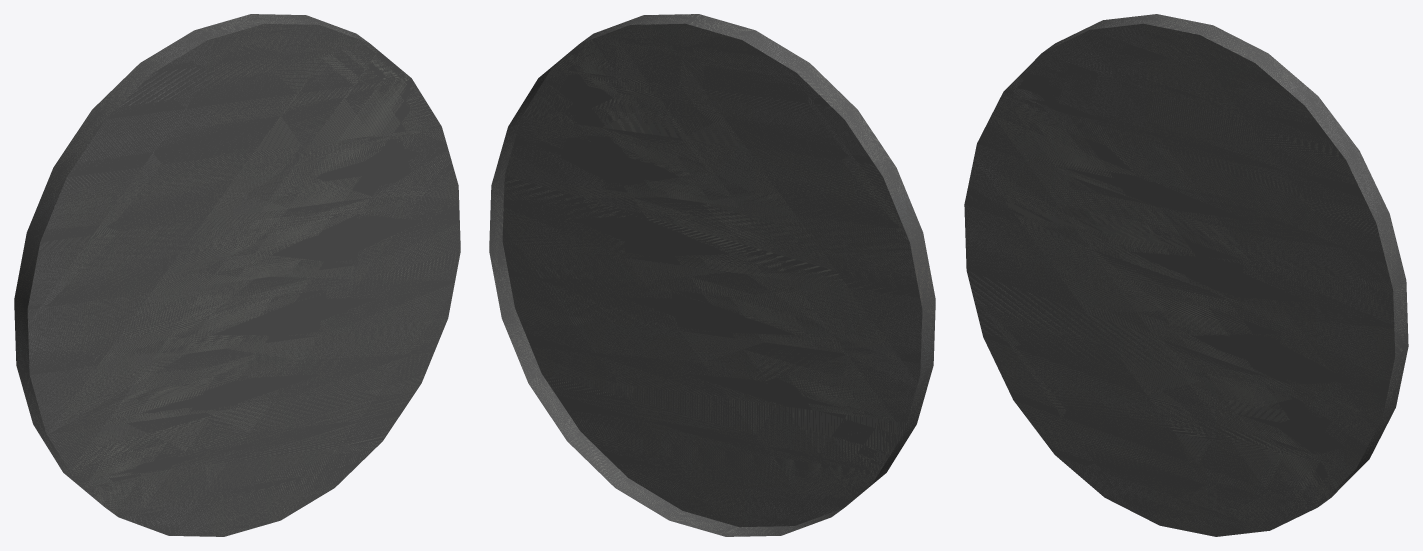
The model's file is original-96.obj.
The picture shows the model from 3 angles, left to right: view 1: azimuth 30°, elevation 25°; view 2: azimuth 150°, elevation 25°; view 3: azimuth 330°, elevation 25°; orthographic projection.
Visible parts, largest first — view 1: mesh26/mesh26-geometry/material_3#mesh26-geometry; view 2: mesh26/mesh26-geometry/material_3#mesh26-geometry; view 3: mesh26/mesh26-geometry/material_3#mesh26-geometry.
Boxes of the visible parts, x1,y1,x2,y2 form: mesh26/mesh26-geometry/material_3#mesh26-geometry: (14, 14, 460, 536); mesh26/mesh26-geometry/material_3#mesh26-geometry: (489, 14, 935, 536); mesh26/mesh26-geometry/material_3#mesh26-geometry: (964, 14, 1408, 536).
Bounding box in the file's own units: 0.3249 × 0.3606 × 0.0174.
2 materials, 1 textured.
